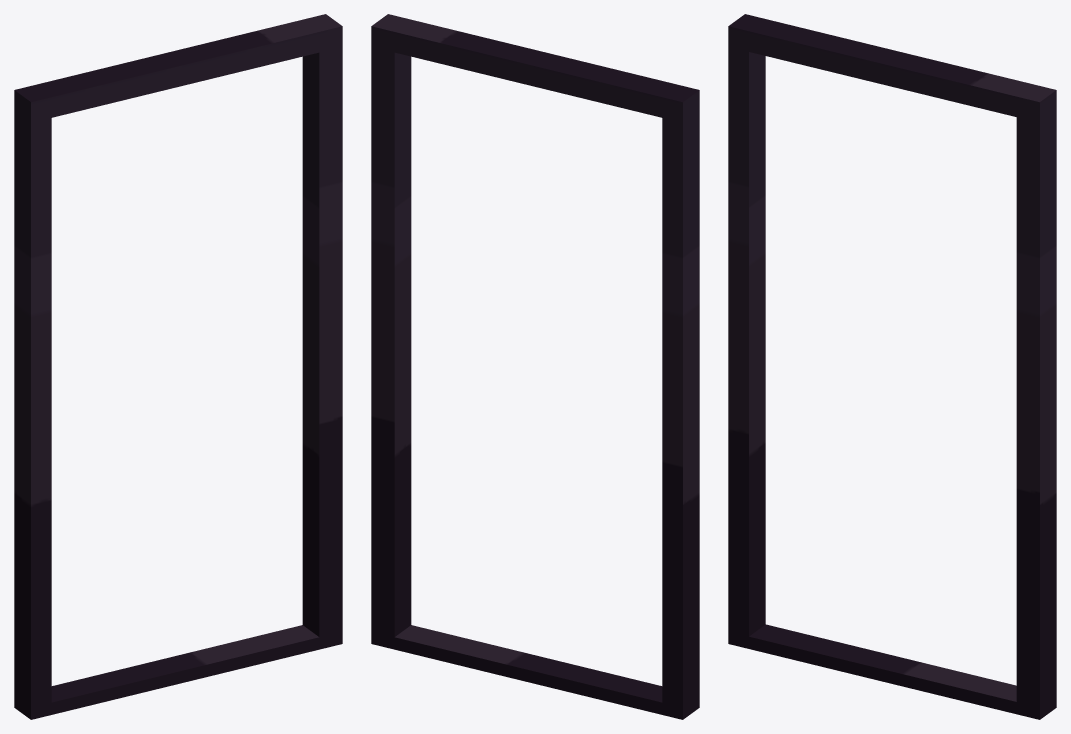
File: SM_bathroomdoorframe.fbx
The picture shows the model from 3 angles, left to right: view 1: azimuth 30°, elevation 25°; view 2: azimuth 150°, elevation 25°; view 3: azimuth 330°, elevation 25°; orthographic projection.
Visible parts, largest first — view 1: SM_doorframe.002; view 2: SM_doorframe.002; view 3: SM_doorframe.002.
Boxes of the visible parts, box(x1,y1,x2,y2) form: SM_doorframe.002: box(14, 14, 342, 719); SM_doorframe.002: box(371, 14, 699, 719); SM_doorframe.002: box(728, 14, 1056, 719).
Bounding box in the file's own units: 96.91 × 184 × 9.02.
